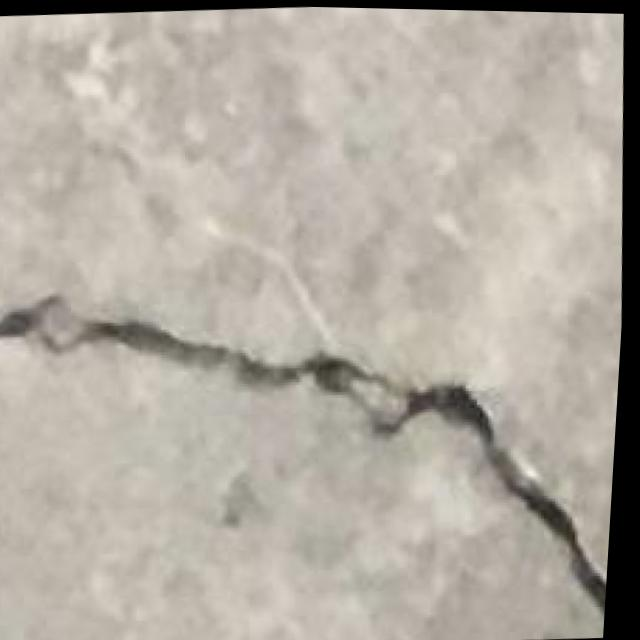Crack: (0, 236, 629, 640)
